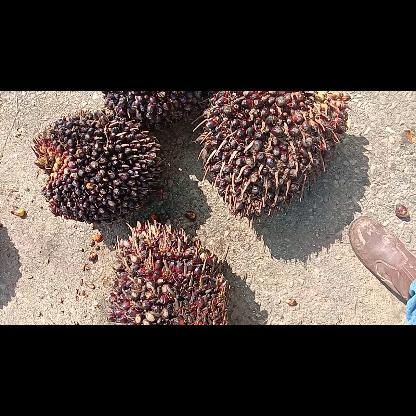TBS mentah: (192, 91, 354, 229), (30, 108, 166, 224), (106, 218, 228, 324), (102, 91, 212, 131)
